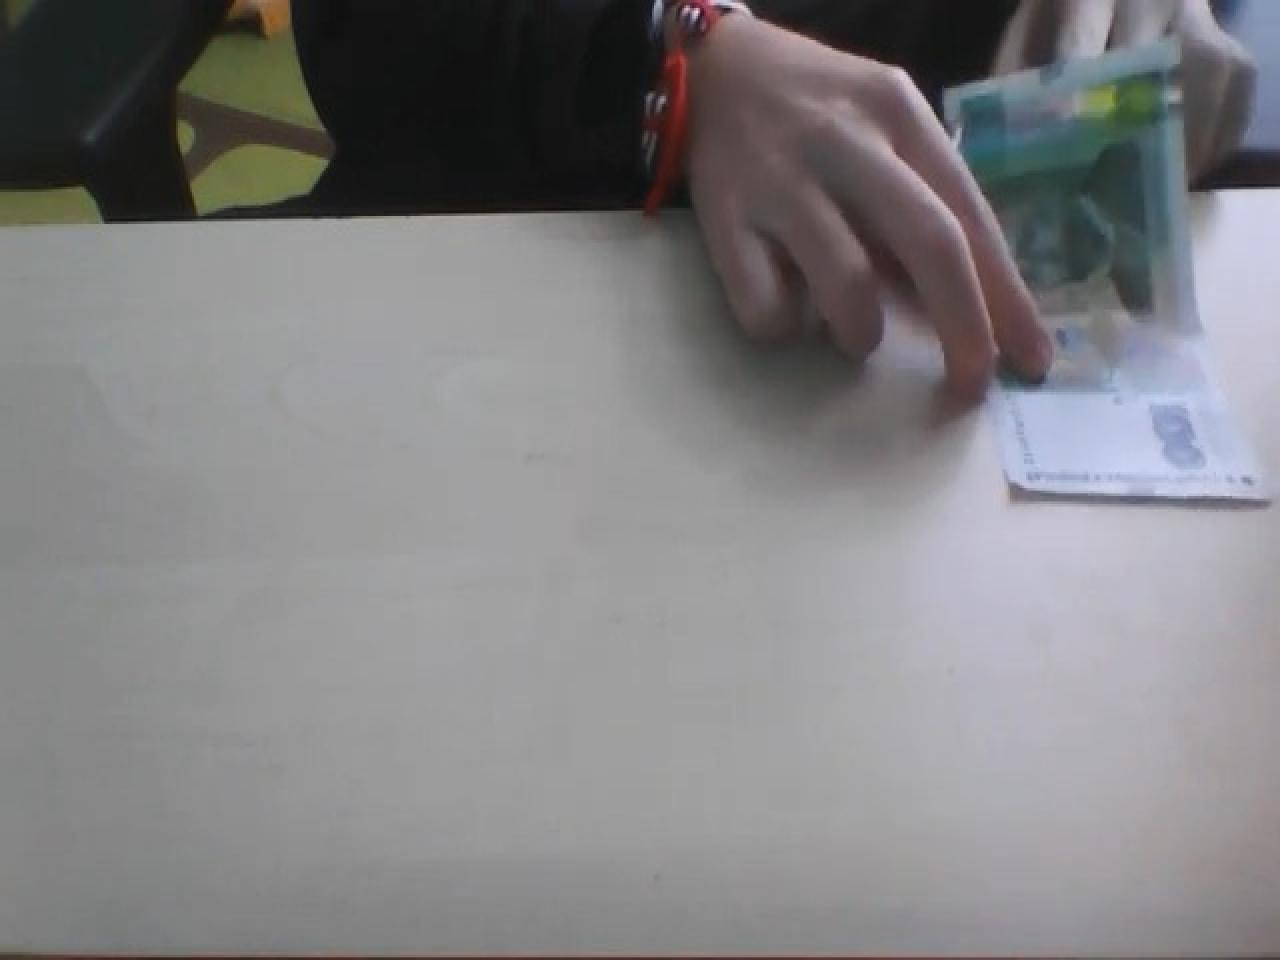100leva: (942, 29, 1206, 336)
